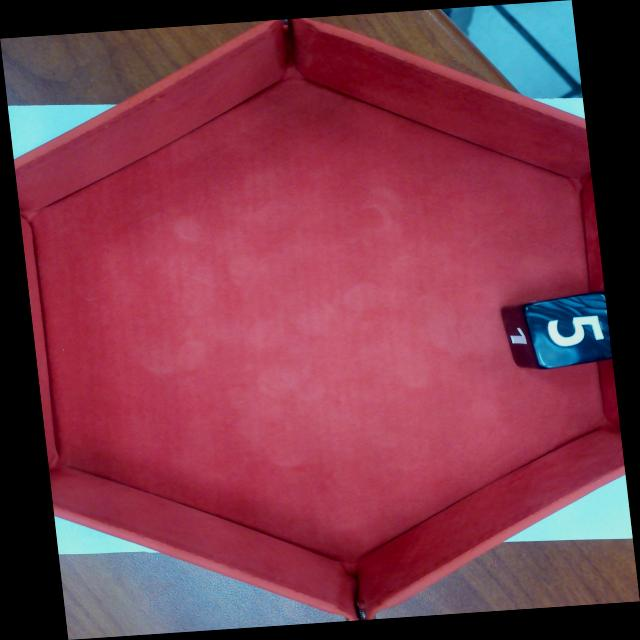dice: (525, 292, 624, 369)
